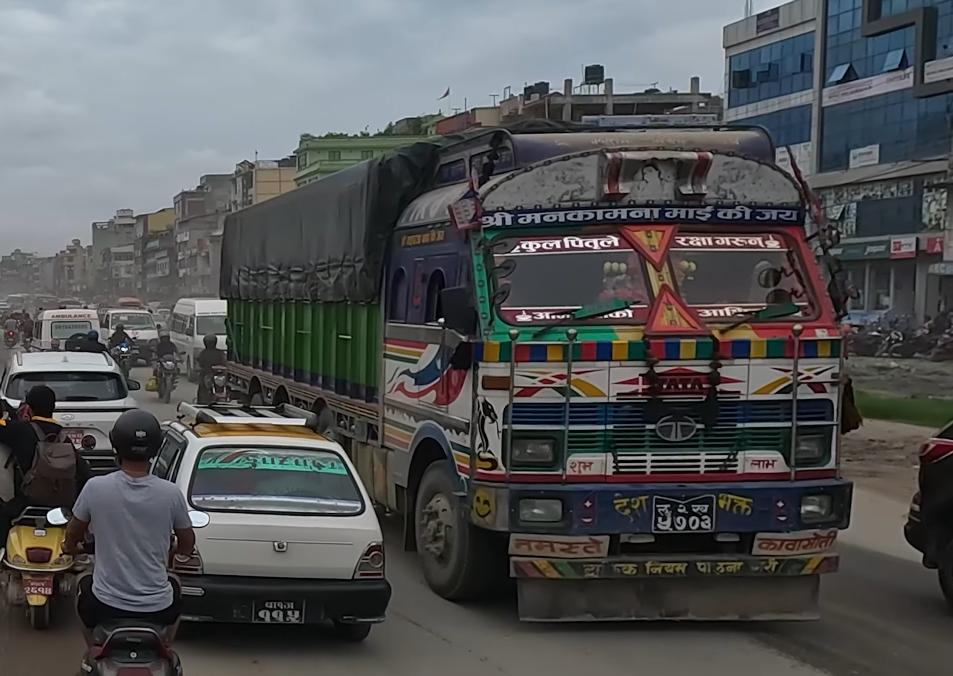bike: (146, 350, 185, 403)
car: (0, 348, 140, 475)
micro_bus: (166, 292, 235, 376)
taxi: (145, 399, 392, 642)
truck: (217, 121, 857, 623)
